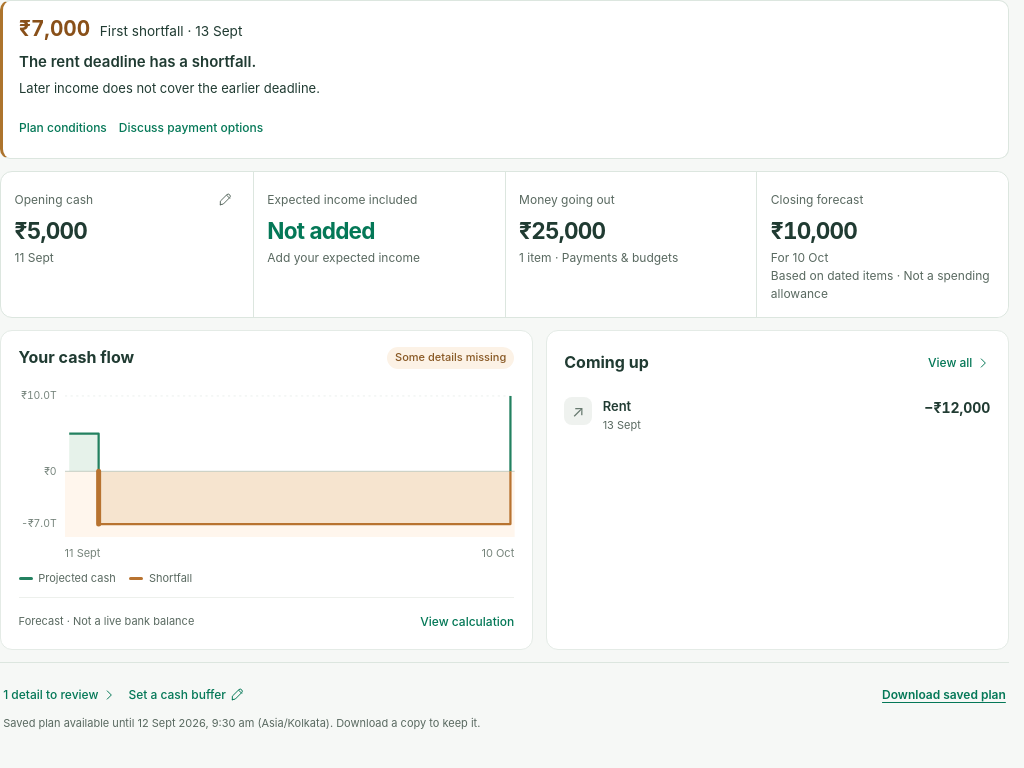
Scenario: places a real early gap ahead of positive closing, with compact guidance and full next step behind details
Expected: the element labelled "First shortfall" is shown, x1=19 y1=16 x2=242 y2=41
Expected: the heading "The rent deadline has a shortfall." is shown, x1=19 y1=52 x2=256 y2=71
Step 1. Click the button "Plan conditions" → (63, 128), box x1=19 y1=112 x2=107 y2=144
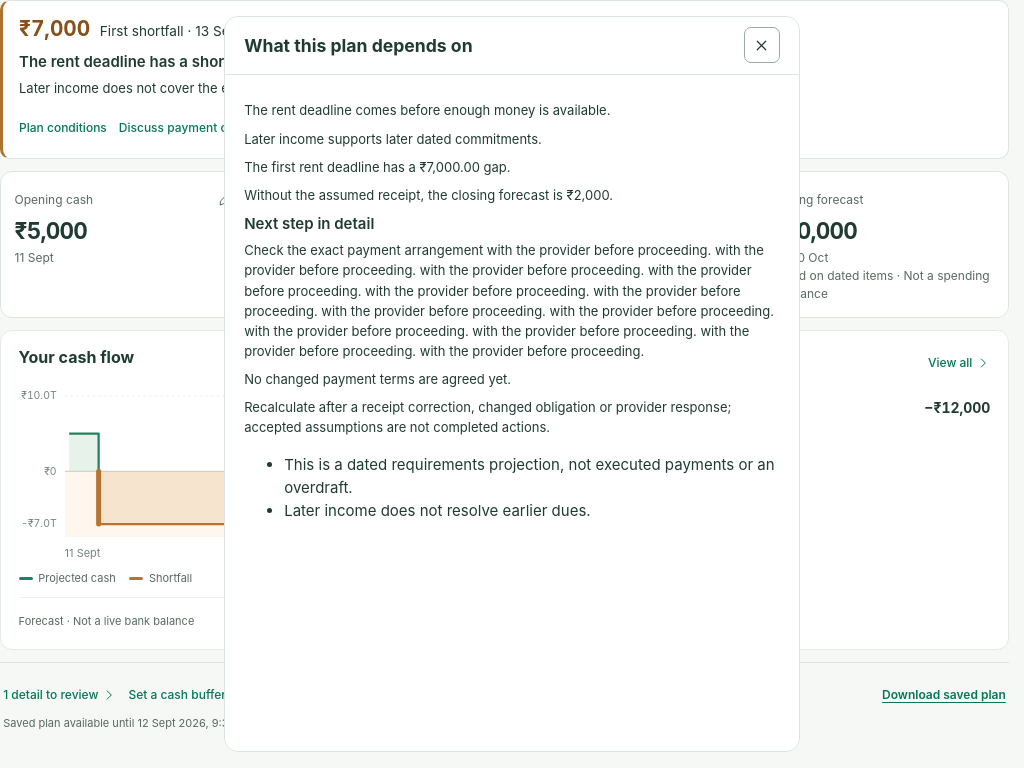
Expected: the text "Without the assumed receipt, the closing forecast is ₹2,000." is shown, x1=244 y1=187 x2=613 y2=203
